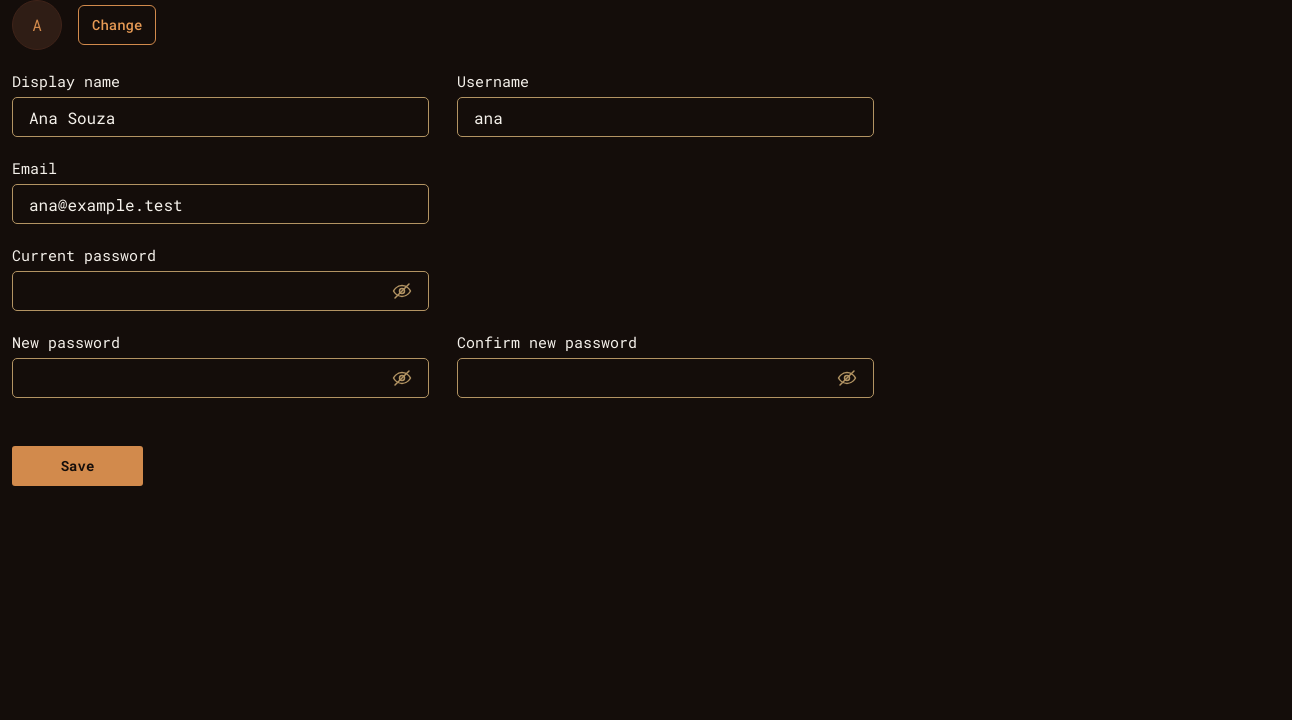
Test case: ProfileEditor (en) › falha de rede mostra alerta e mantem os valores digitados
Replace the text in the field labelled "Display name" with "Ana Maria": (220, 117) [29,106,412,128]
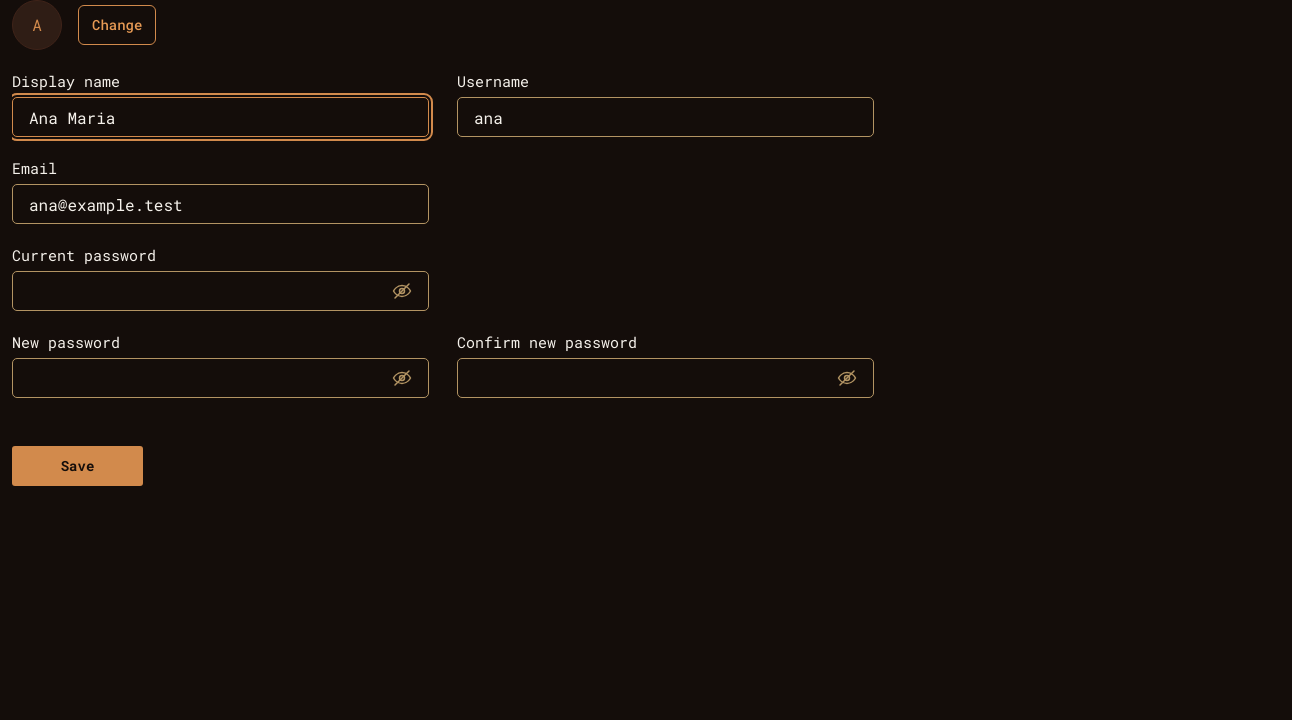
Click the button "Save": (78, 466) [12,446,143,486]
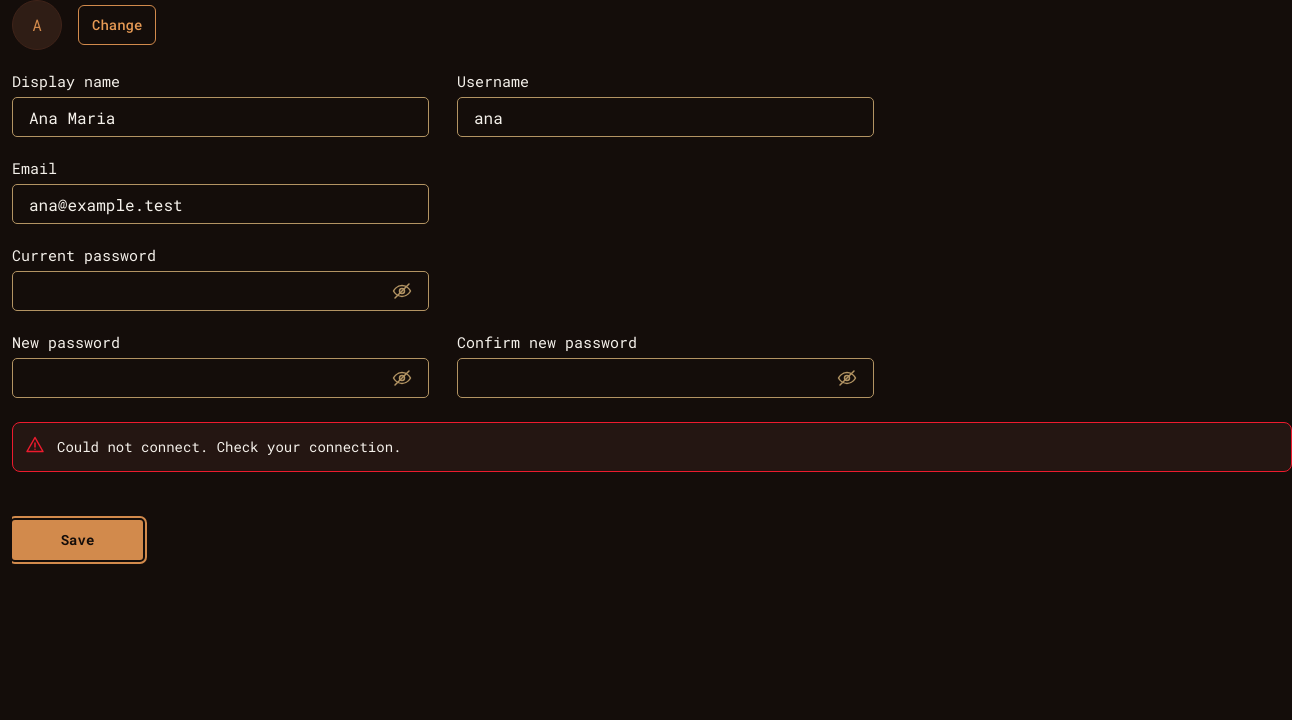
expect the message reads "Could not connect. Check your connection.": met, box [57,437,402,456]
